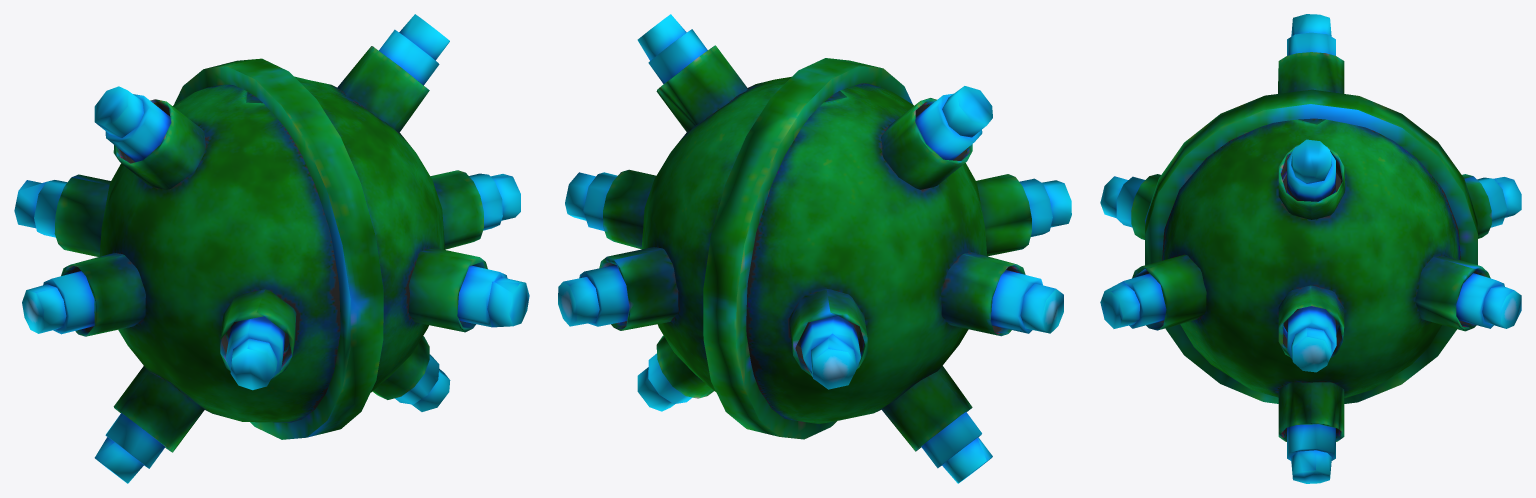
The model's file is bomb_green.fbx.
3 renders of one model, left to right at view 1: azimuth 30°, elevation 25°; view 2: azimuth 150°, elevation 25°; view 3: azimuth 270°, elevation 25°, orthographic. The views are drawn at different scales.
Visible parts, largest first — view 1: Space Bomb 1; view 2: Space Bomb 1; view 3: Space Bomb 1.
Part boxes in pixels (x1,y1,x2,y2): Space Bomb 1: (14,14,529,483); Space Bomb 1: (558,14,1071,483); Space Bomb 1: (1100,14,1521,483).
Bounding box in the file's own units: 1896 × 1657 × 1495.
Materials: 1 (1 with a texture image).
